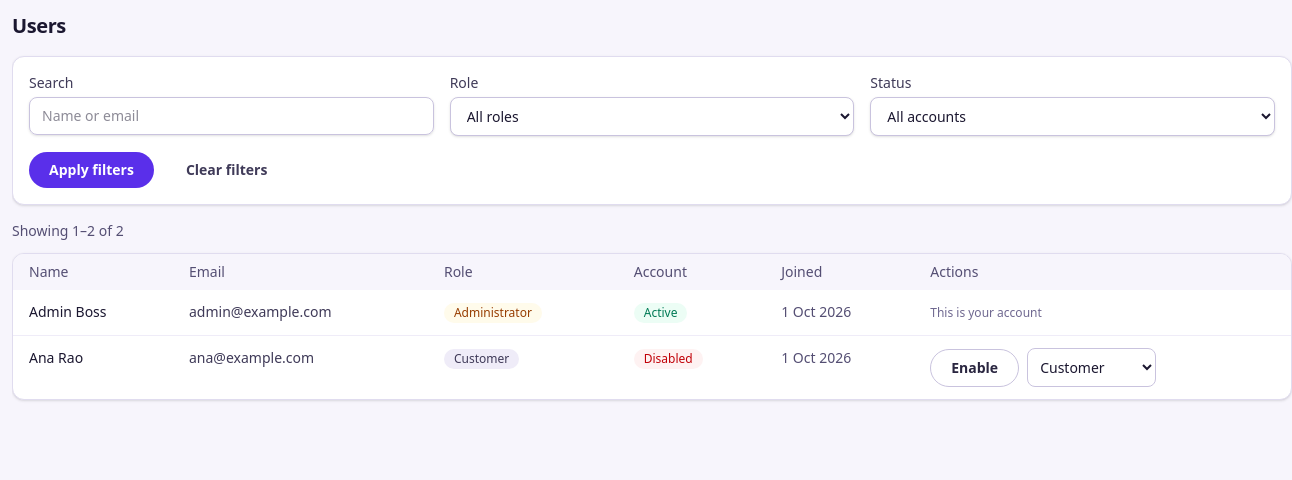
Test: AdminUsersPage › enables a disabled account with one click
Click the button with aria-label "Enable Ana Rao" at (975, 368), box [930, 348, 1019, 386]
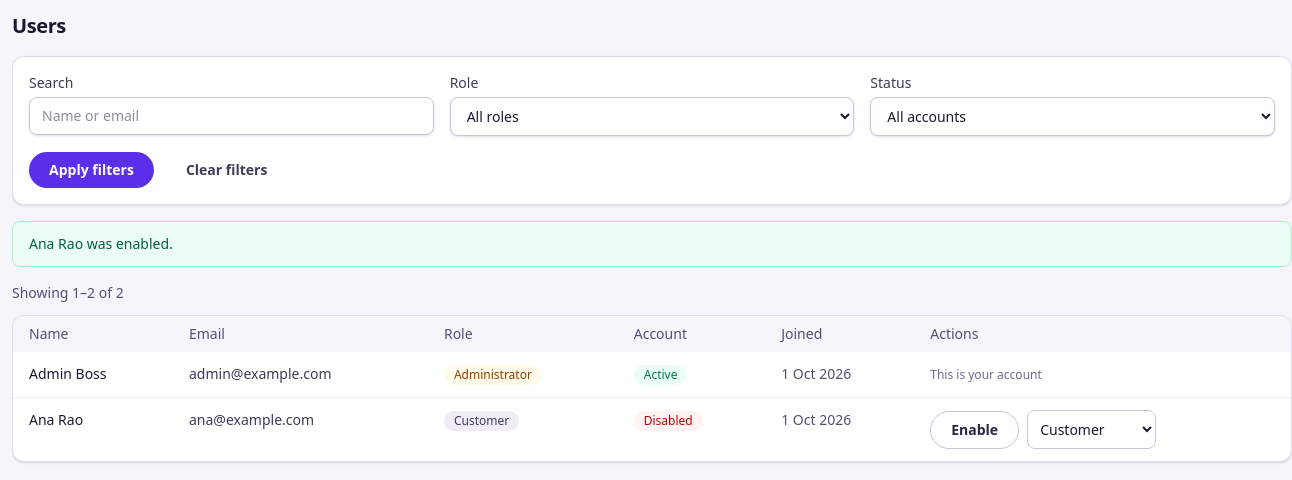
Now the text "Ana Rao was enabled." is shown, box [12, 221, 1291, 267]
